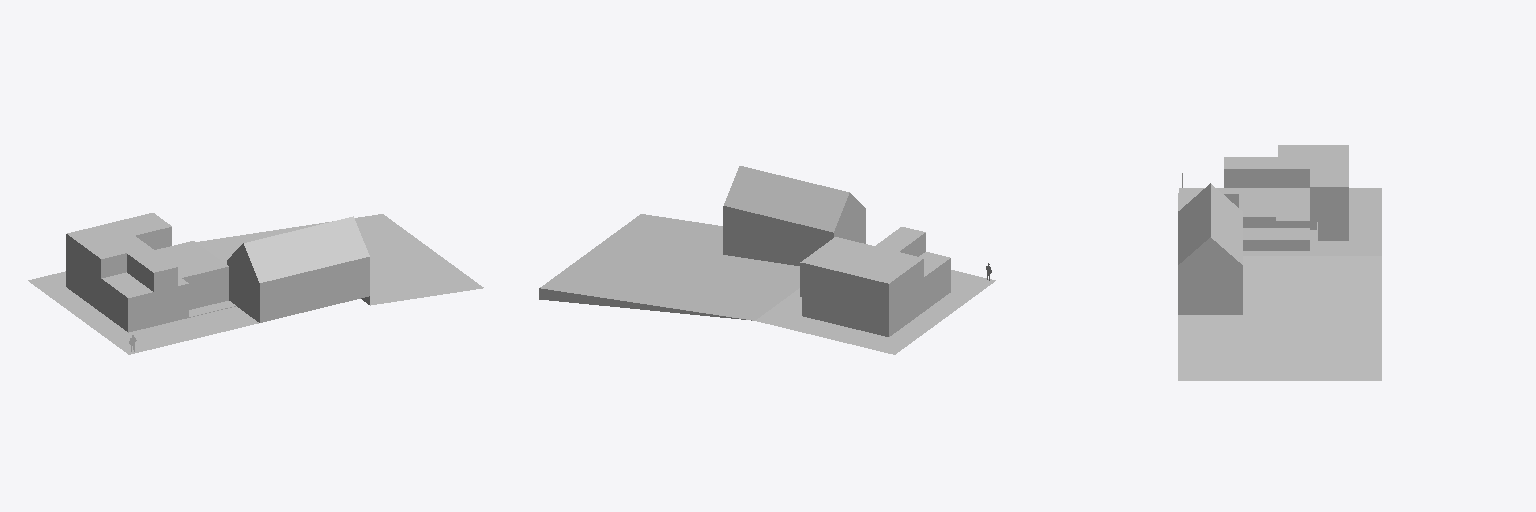
3 renders of one model, left to right at view 1: azimuth 30°, elevation 25°; view 2: azimuth 150°, elevation 25°; view 3: azimuth 270°, elevation 25°, orthographic.
Visible parts, largest first — view 1: SketchUp_ID204, SketchUp.001_ID212, SketchUp.003_ID240; view 2: SketchUp_ID204, SketchUp.001_ID212; view 3: SketchUp_ID204, SketchUp.001_ID212.
Part boxes in pixels (x1,y1,x2,y2): SketchUp_ID204: (28, 213, 483, 354); SketchUp.001_ID212: (244, 216, 369, 282); SketchUp.003_ID240: (102, 272, 152, 297); SketchUp_ID204: (539, 193, 995, 354); SketchUp.001_ID212: (724, 166, 849, 232); SketchUp_ID204: (1178, 145, 1381, 380); SketchUp.001_ID212: (1178, 183, 1242, 264).
Size of the model in its own units: 35.69 by 9.53 by 17.69.